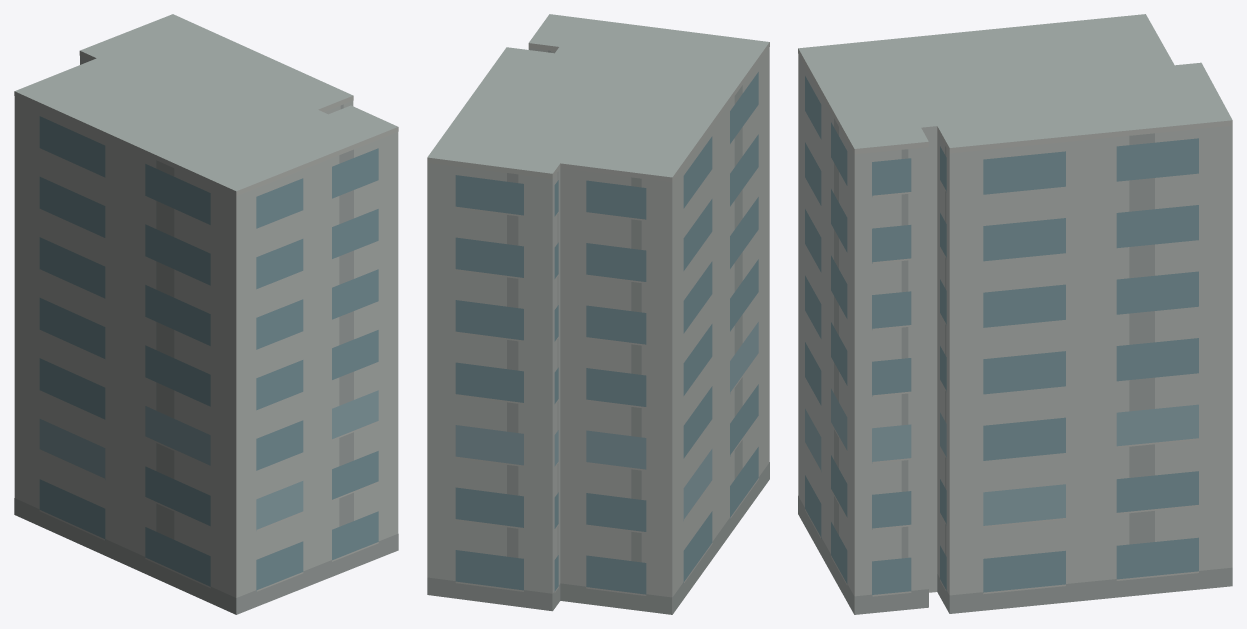
The model's file is survey-upis-32806747.glb.
3 views of the same model, side by side, from view 1: azimuth 30°, elevation 25°; view 2: azimuth 150°, elevation 25°; view 3: azimuth 270°, elevation 25° (orthographic). The views are drawn at different scales.
Parts seen in each view (by area): view 1: survey-upis-32806747.tmp; view 2: survey-upis-32806747.tmp; view 3: survey-upis-32806747.tmp.
Part boxes in pixels (<box>): survey-upis-32806747.tmp: <box>14,14,398,614</box>; survey-upis-32806747.tmp: <box>427,14,769,614</box>; survey-upis-32806747.tmp: <box>798,14,1232,614</box>.
Size of the model in its own units: 13.06 by 21 by 17.76.
